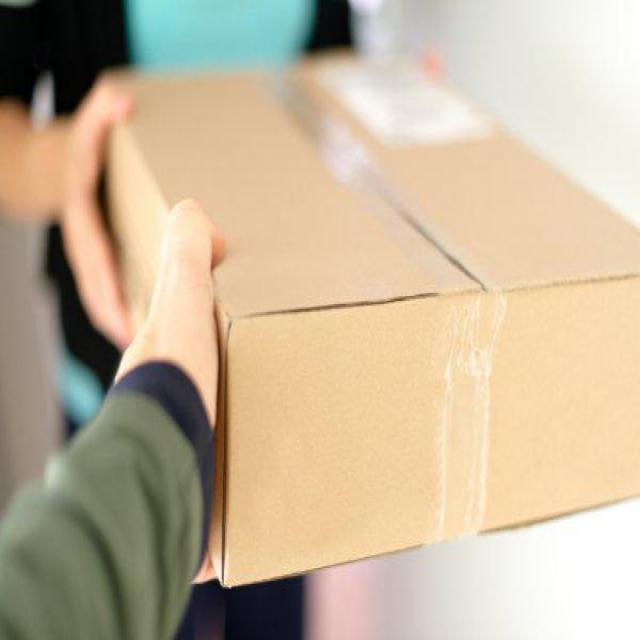box: (98, 42, 640, 598)
